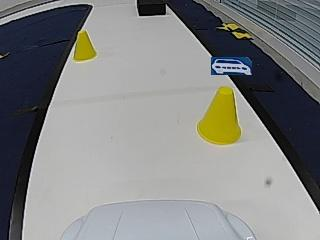block: (136, 0, 165, 15)
cone: (195, 87, 242, 146), (72, 32, 97, 62)
